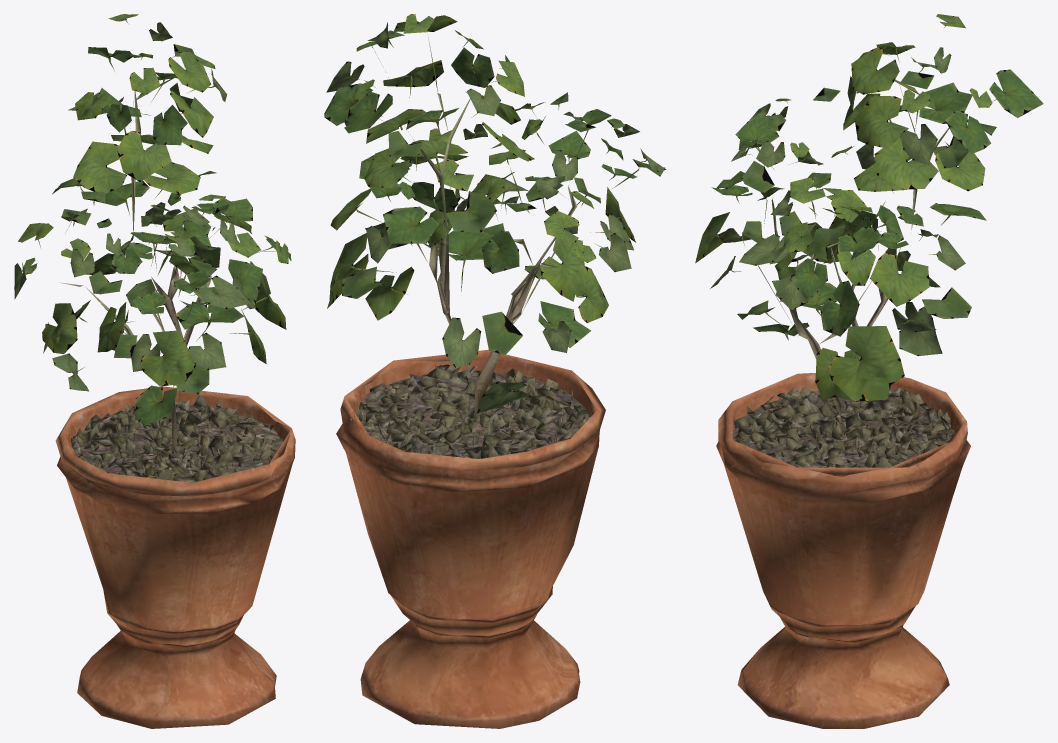
File: pot.glb
3 views of the same model, side by side, from view 1: azimuth 30°, elevation 25°; view 2: azimuth 150°, elevation 25°; view 3: azimuth 270°, elevation 25° (orthographic). The views are drawn at different scales.
Visible parts, largest first — view 1: potted_plant_01_pot, potted_plant_01_leaves, potted_plant_01_pebbles, potted_plant_01_stem; view 2: potted_plant_01_pot, potted_plant_01_leaves, potted_plant_01_pebbles, potted_plant_01_stem; view 3: potted_plant_01_pot, potted_plant_01_leaves, potted_plant_01_pebbles, potted_plant_01_stem.
Boxes of the visible parts, x1,y1,x2,y2 form: potted_plant_01_pot: [55, 386, 295, 728]; potted_plant_01_leaves: [14, 14, 291, 425]; potted_plant_01_pebbles: [71, 394, 292, 498]; potted_plant_01_stem: [58, 91, 211, 445]; potted_plant_01_pot: [336, 350, 605, 728]; potted_plant_01_leaves: [324, 14, 666, 413]; potted_plant_01_pebbles: [350, 364, 589, 477]; potted_plant_01_stem: [413, 93, 577, 414]; potted_plant_01_pot: [716, 373, 970, 728]; potted_plant_01_leaves: [695, 14, 1043, 401]; potted_plant_01_pebbles: [732, 386, 962, 485]; potted_plant_01_stem: [758, 85, 949, 424].
Size of the model in its own units: 0.5866 by 1.33 by 0.6335.
2 materials, 2 textured.
